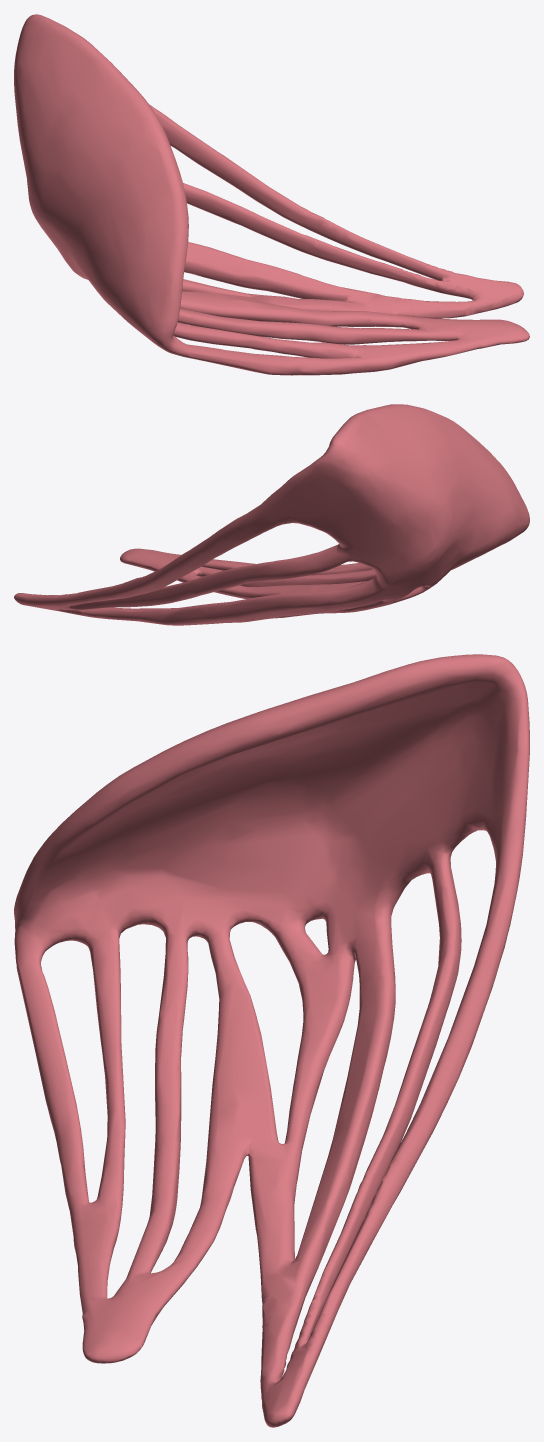
3 views of the same model, one above another, from view 1: azimuth 30°, elevation 25°; view 2: azimuth 150°, elevation 25°; view 3: azimuth 270°, elevation 25° (orthographic). The views are drawn at different scales.
Visible parts, largest first — view 1: 三尖瓣隔侧尖; view 2: 三尖瓣隔侧尖; view 3: 三尖瓣隔侧尖.
Part boxes in pixels (left/top/right/bottom): 三尖瓣隔侧尖: left=14, top=14, right=529, bottom=375; 三尖瓣隔侧尖: left=14, top=404, right=529, bottom=625; 三尖瓣隔侧尖: left=14, top=654, right=529, bottom=1427.
Bounding box in the file's own units: 0.0548 × 0.0368 × 0.0356.
